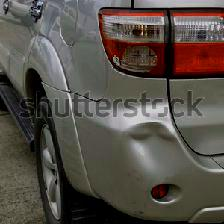bumper_dent: (108, 97, 210, 178)
